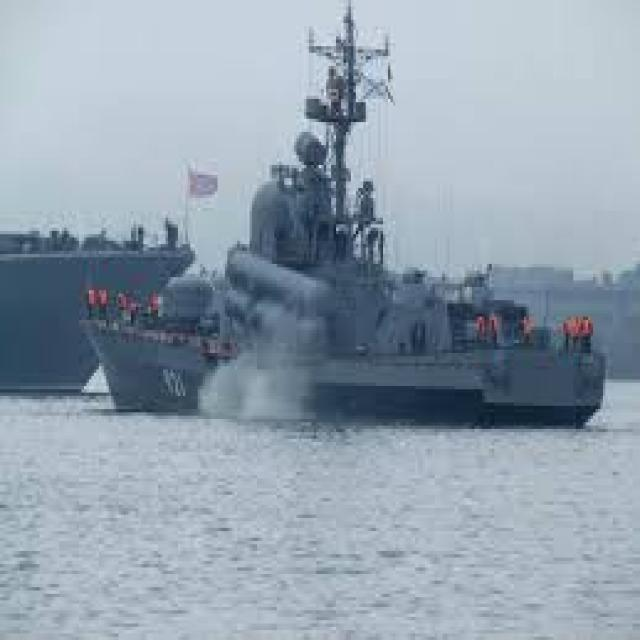navalvessels: (82, 7, 610, 428)
